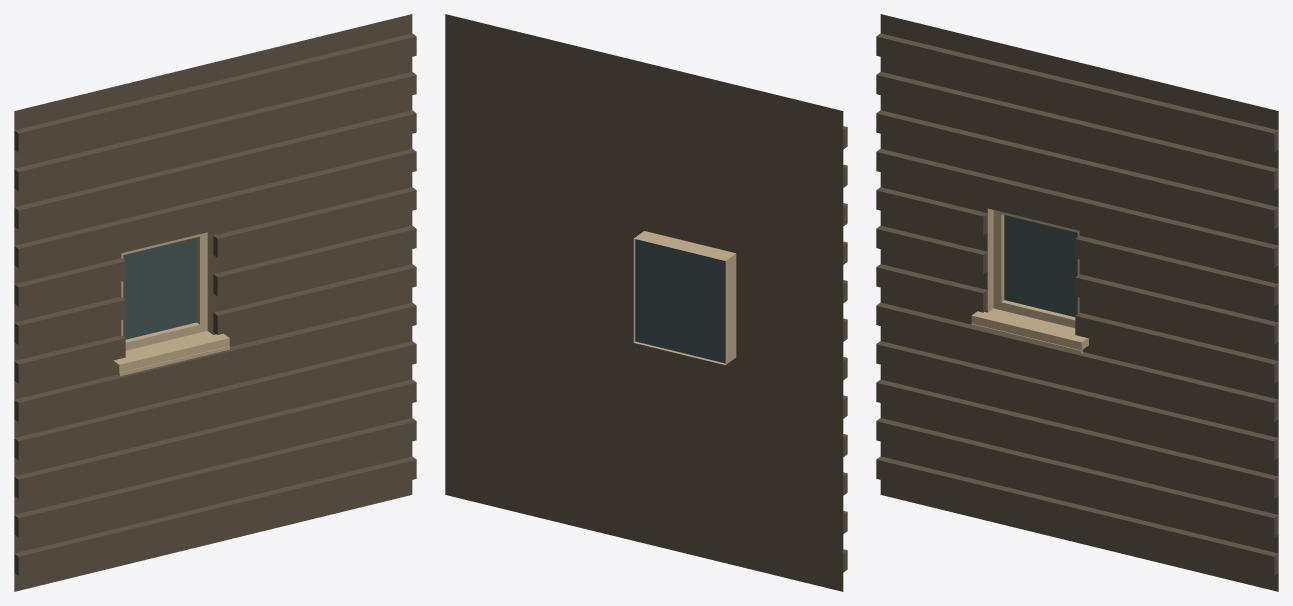
The model's file is top-w4_close.fbx.
3 renders of one model, left to right at view 1: azimuth 30°, elevation 25°; view 2: azimuth 150°, elevation 25°; view 3: azimuth 330°, elevation 25°, orthographic.
Visible parts, largest first — view 1: a2015/400/top-w4_close; view 2: a2015/400/top-w4_close; view 3: a2015/400/top-w4_close.
Part boxes in pixels (x1=…): a2015/400/top-w4_close: x1=14, y1=14, x2=416, y2=591; a2015/400/top-w4_close: x1=445, y1=14, x2=847, y2=591; a2015/400/top-w4_close: x1=876, y1=14, x2=1278, y2=591.
Size of the model in its own units: 2.6 by 3 by 0.205.
